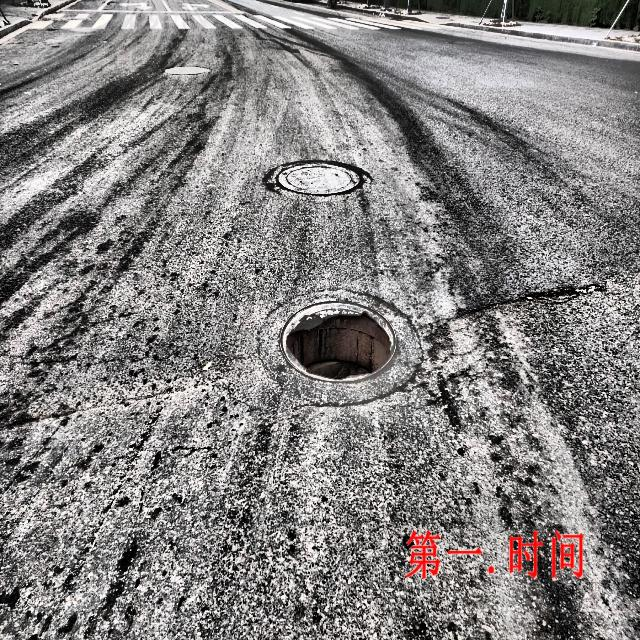open_manhole: (280, 298, 398, 382)
